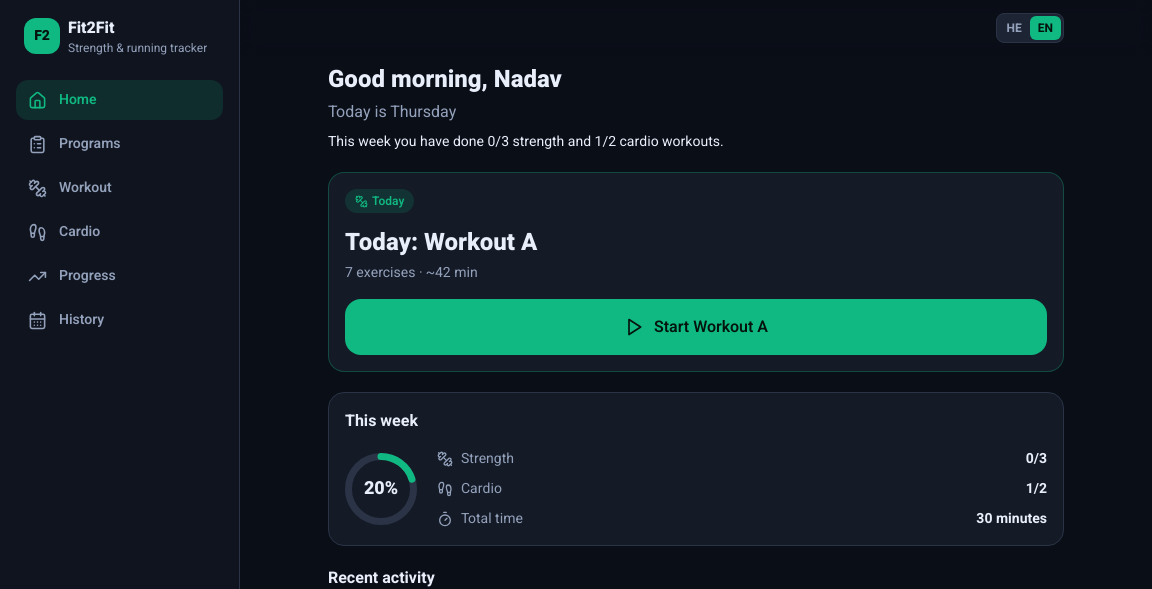
Test: Fit2Fit flows › programs page opens exercise details with a safe video action
Expected: the heading "Good morning, Nadav" is shown, [328, 62, 562, 97]
Click the link "Programs".
click(74, 144)  # box [28, 133, 121, 154]
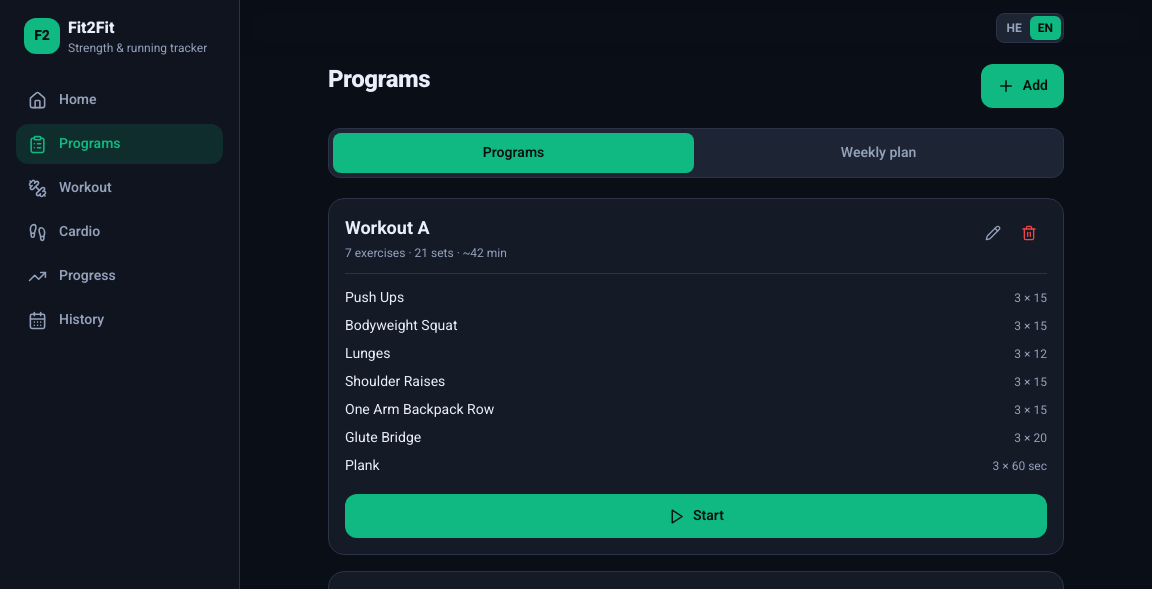
Click the button "Push Ups 3 × 15".
click(375, 298)  # box [339, 286, 1053, 310]
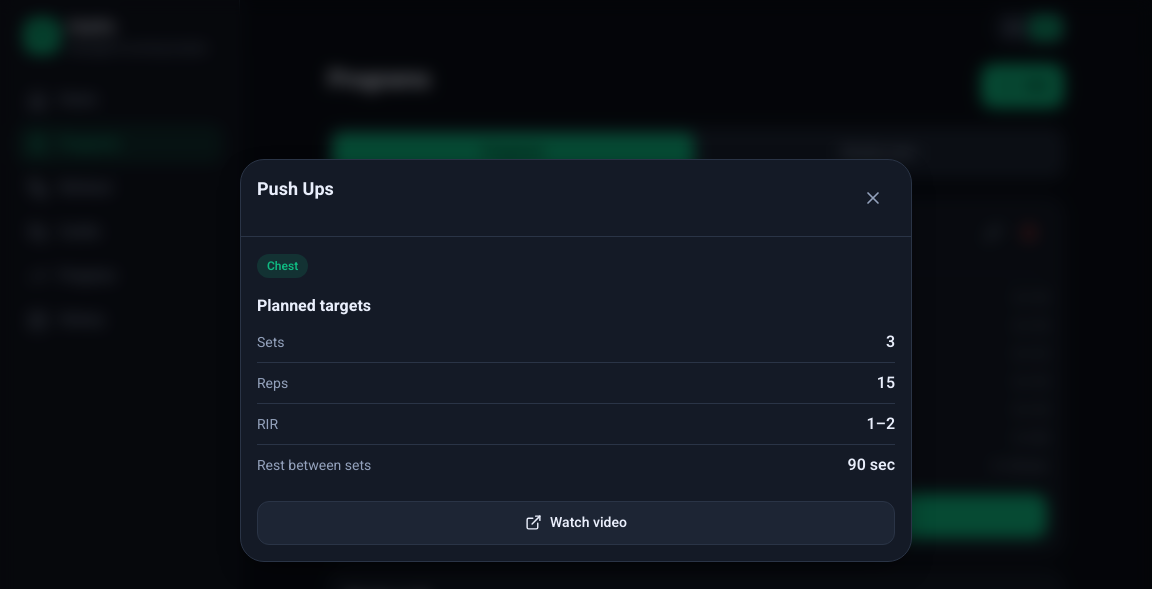
Expected: the heading "Planned targets" is shown, [257, 294, 371, 318]
Expected: the text "Rest between sets" is shown, [257, 456, 371, 476]
Expected: the button "Watch video" is shown, [257, 500, 895, 544]
